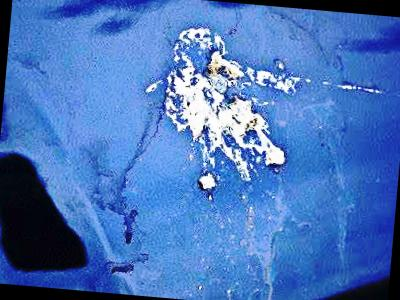Bird Poop: (165, 28, 300, 300), (92, 101, 163, 243), (111, 252, 149, 271), (323, 81, 382, 91), (147, 79, 162, 91)
